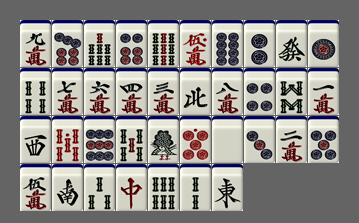0m: (180, 20, 211, 67)
0p: (180, 116, 211, 163)
0s: (52, 116, 83, 163)
1m: (308, 68, 339, 115)
1p: (308, 20, 339, 67)
1s: (148, 116, 179, 163)
1z: (212, 164, 243, 211)
2m: (276, 116, 307, 163)
2p: (244, 20, 275, 67)
2s: (180, 164, 211, 211)
2z: (52, 164, 83, 211)
3m: (148, 68, 179, 115)
3p: (244, 116, 275, 163)
3s: (84, 164, 115, 211)
3z: (20, 116, 51, 163)
4m: (116, 68, 147, 115)
4p: (244, 68, 275, 115)
4s: (20, 68, 51, 115)
4z: (180, 68, 211, 115)
5m: (20, 164, 51, 211)
5p: (308, 116, 339, 163)
5s: (116, 116, 147, 163)
5z: (212, 116, 243, 163)
6m: (84, 68, 115, 115)
6p: (116, 20, 147, 67)
6s: (148, 164, 179, 211)
6z: (276, 20, 307, 67)
7m: (52, 68, 83, 115)
7p: (52, 20, 83, 67)
7s: (84, 20, 115, 67)
7z: (116, 164, 147, 211)
8m: (212, 68, 243, 115)
8p: (212, 20, 243, 67)
8s: (276, 68, 307, 115)
9m: (20, 20, 51, 67)
9p: (84, 116, 115, 163)
9s: (148, 20, 179, 67)
